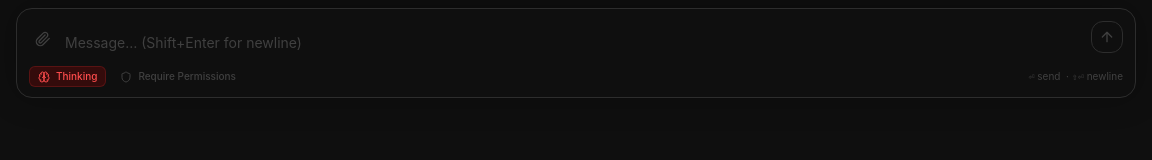
Test: InputBar › clicking Brain/Zap button toggles thinking mode
Click the button "Thinking" at (68,76), box [29,66,106,87]
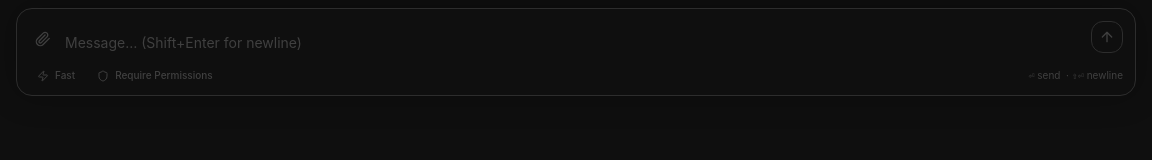
Expected: the text "Fast" is shown, [55,68,75,83]
Click the button "Fast" at (56,76), box [29,66,83,85]
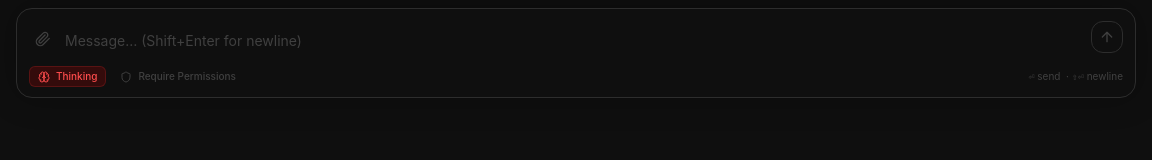
Expected: the text "Thinking" is shown, [56,69,97,84]
